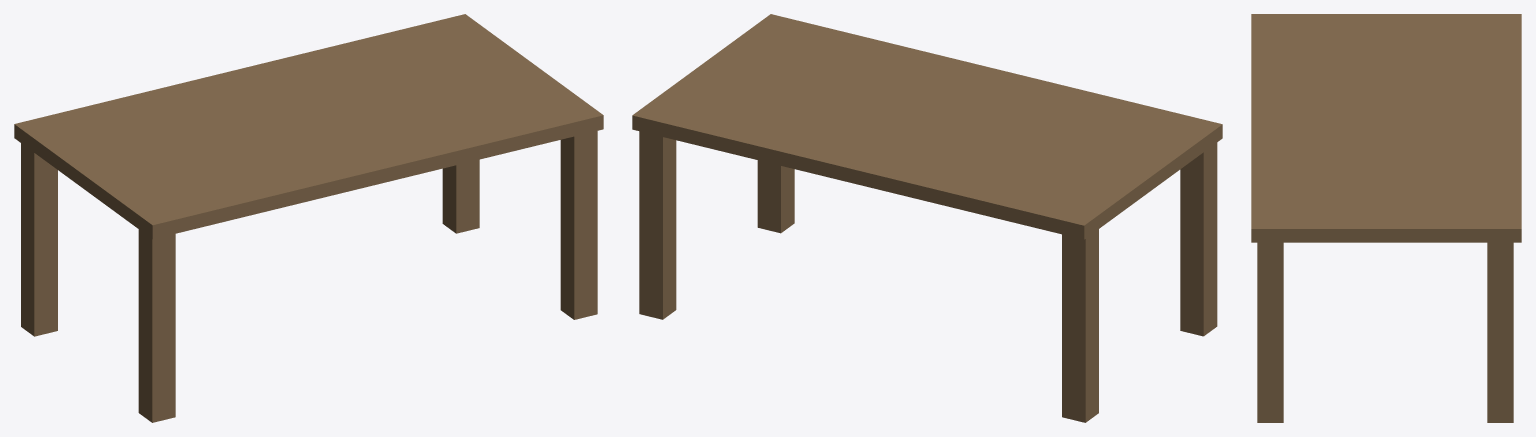
File: Table.fbx
3 views of the same model, side by side, from view 1: azimuth 30°, elevation 25°; view 2: azimuth 150°, elevation 25°; view 3: azimuth 270°, elevation 25° (orthographic). The views are drawn at different scales.
Visible parts, largest first — view 1: Table; view 2: Table; view 3: Table.
Boxes of the visible parts, box(x1,y1,x2,y2) form: Table: box(14, 14, 603, 422); Table: box(632, 14, 1222, 422); Table: box(1251, 14, 1521, 422).
Size of the model in its own units: 2.92 by 1.24 by 1.55.
